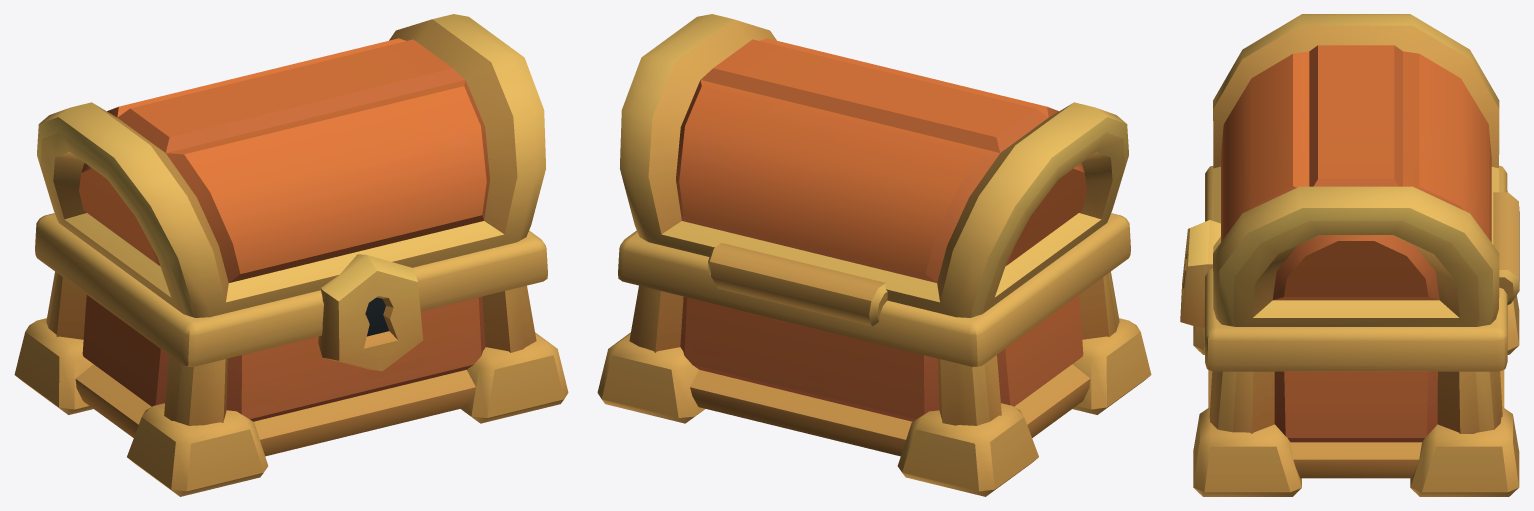
Rendered from Gems_Chest_Empty.gltf.
3 views of the same model, side by side, from view 1: azimuth 30°, elevation 25°; view 2: azimuth 150°, elevation 25°; view 3: azimuth 270°, elevation 25° (orthographic). The views are drawn at different scales.
Visible parts, largest first — view 1: Gems_Chest_Empty_Lid, Gems_Chest_Empty; view 2: Gems_Chest_Empty_Lid, Gems_Chest_Empty; view 3: Gems_Chest_Empty_Lid, Gems_Chest_Empty.
Part boxes in pixels (x1,y1,x2,y2): Gems_Chest_Empty_Lid: [37, 14, 545, 317]; Gems_Chest_Empty: [14, 213, 568, 496]; Gems_Chest_Empty_Lid: [620, 14, 1128, 326]; Gems_Chest_Empty: [597, 213, 1151, 496]; Gems_Chest_Empty_Lid: [1213, 14, 1519, 326]; Gems_Chest_Empty: [1180, 165, 1519, 496].
Size of the model in its own units: 1.55 by 1.11 by 1.13.
Materials: 1 (1 with a texture image).
